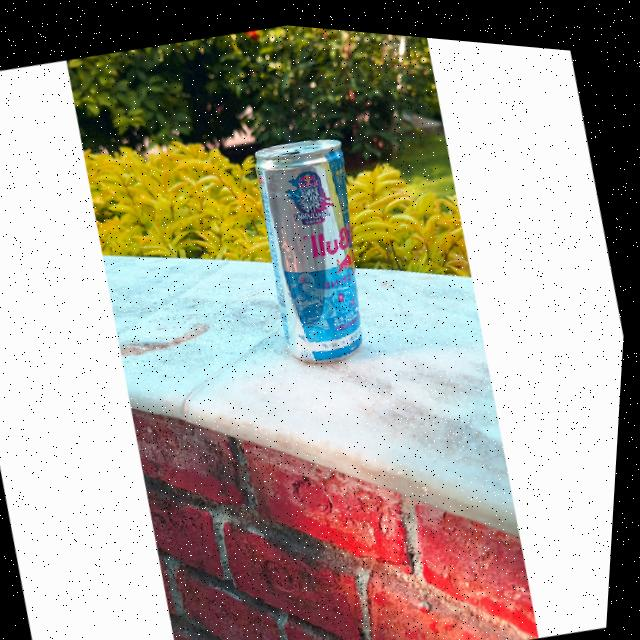Redbull DanceYourStyle: (229, 112, 394, 368)
